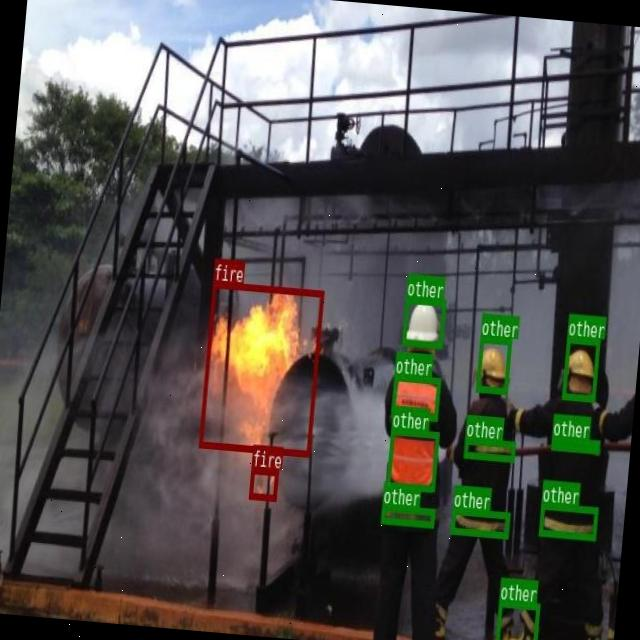fire: (198, 280, 322, 456), (248, 466, 278, 499)
